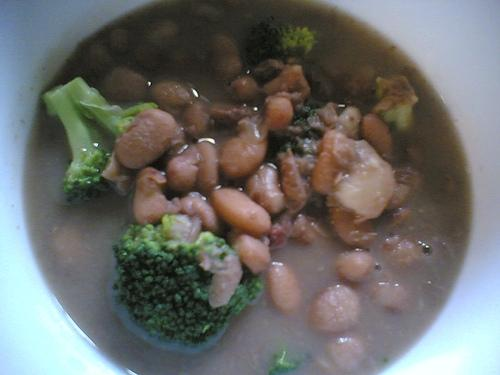broccoli: (112, 214, 262, 347), (40, 75, 158, 206), (244, 16, 318, 66), (269, 344, 303, 375)
